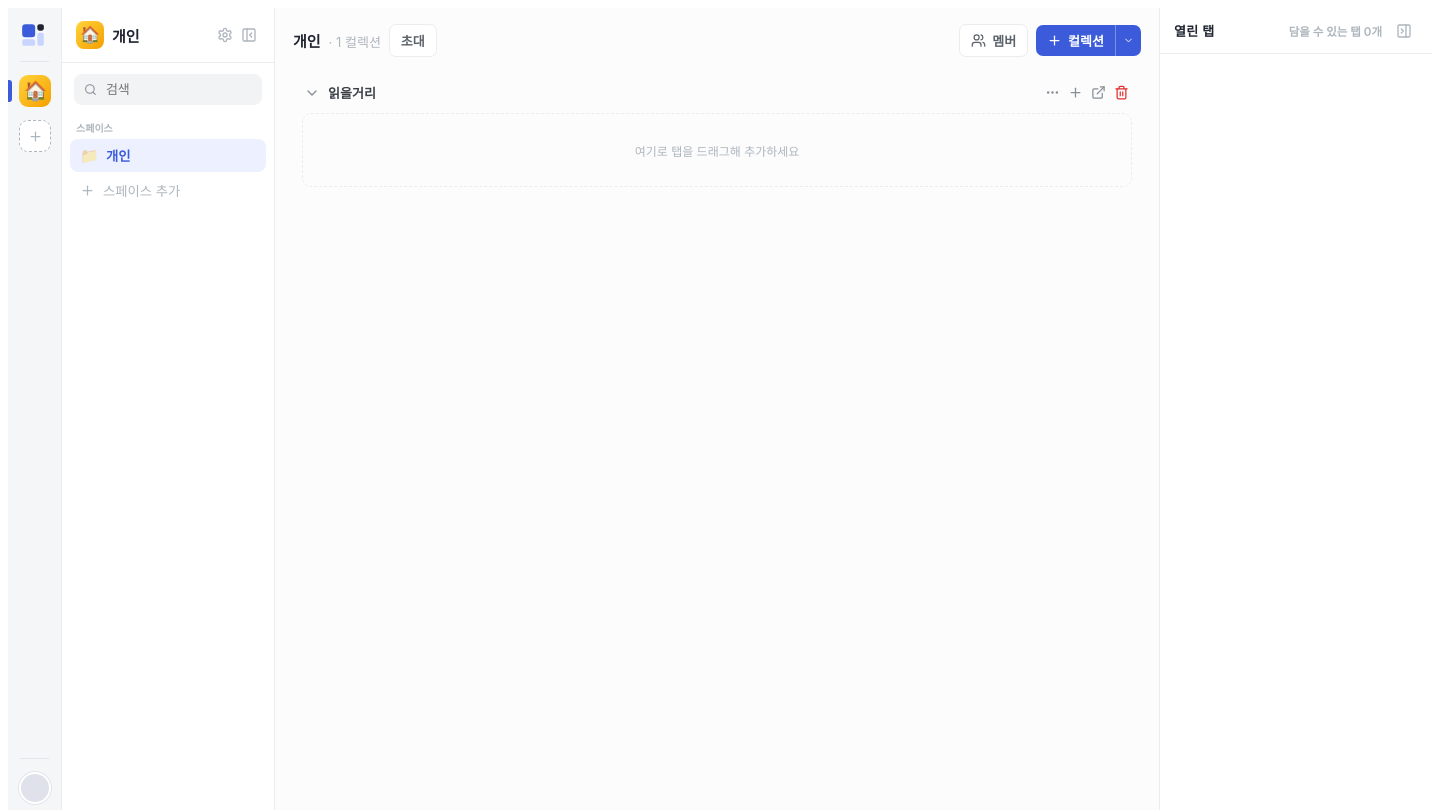
Test case: NewTab — 컬렉션 삭제 › 링크가 하나도 없으면 확인 없이 바로 삭제한다
Expected: the button "읽을거리" is shown, [325,83,379,102]
Click the button named "컬렉션 삭제".
click(1122, 92)  # box [1111,82,1132,103]
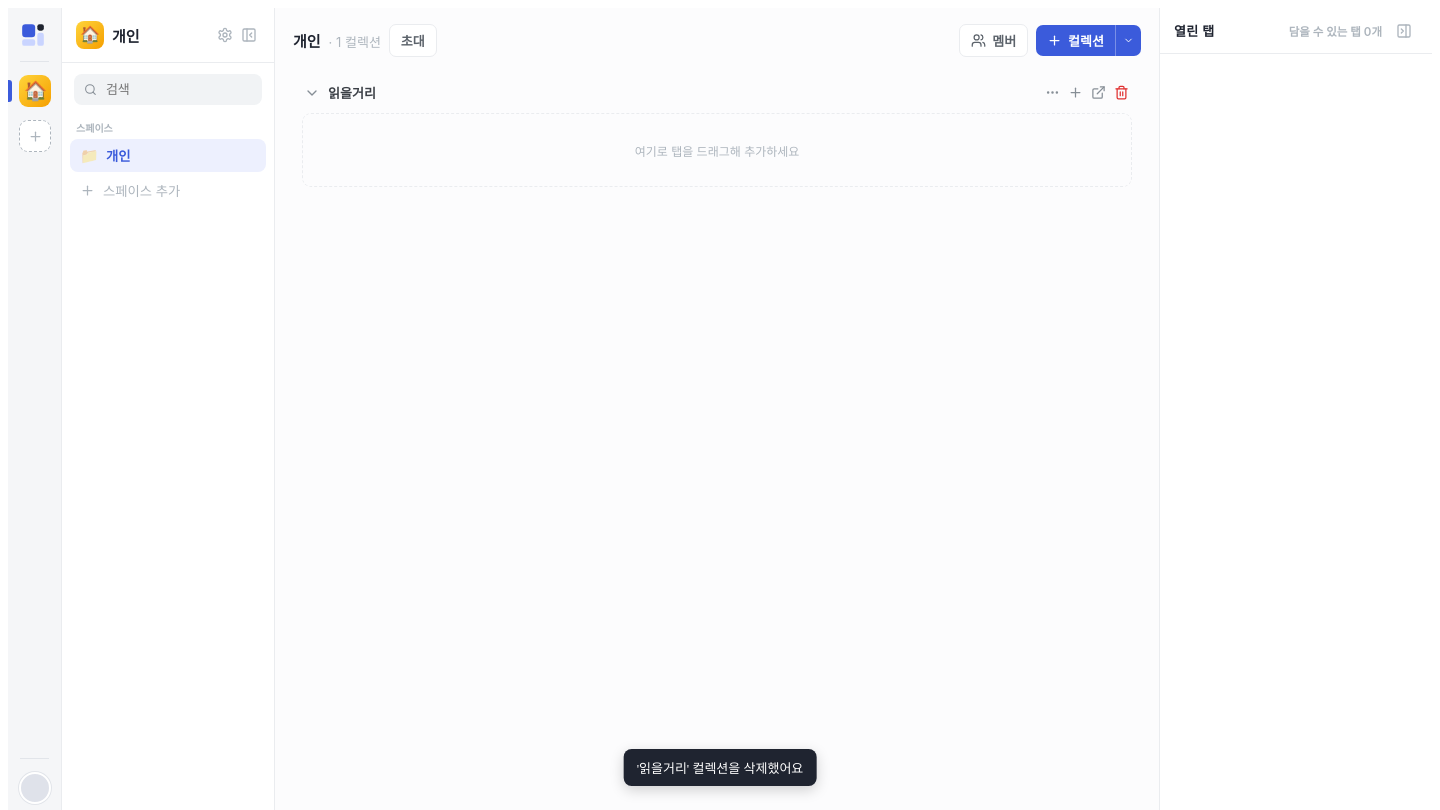
Expected: the text "'읽을거리' 컬렉션을 삭제했어요" is shown, [624,749,816,786]
